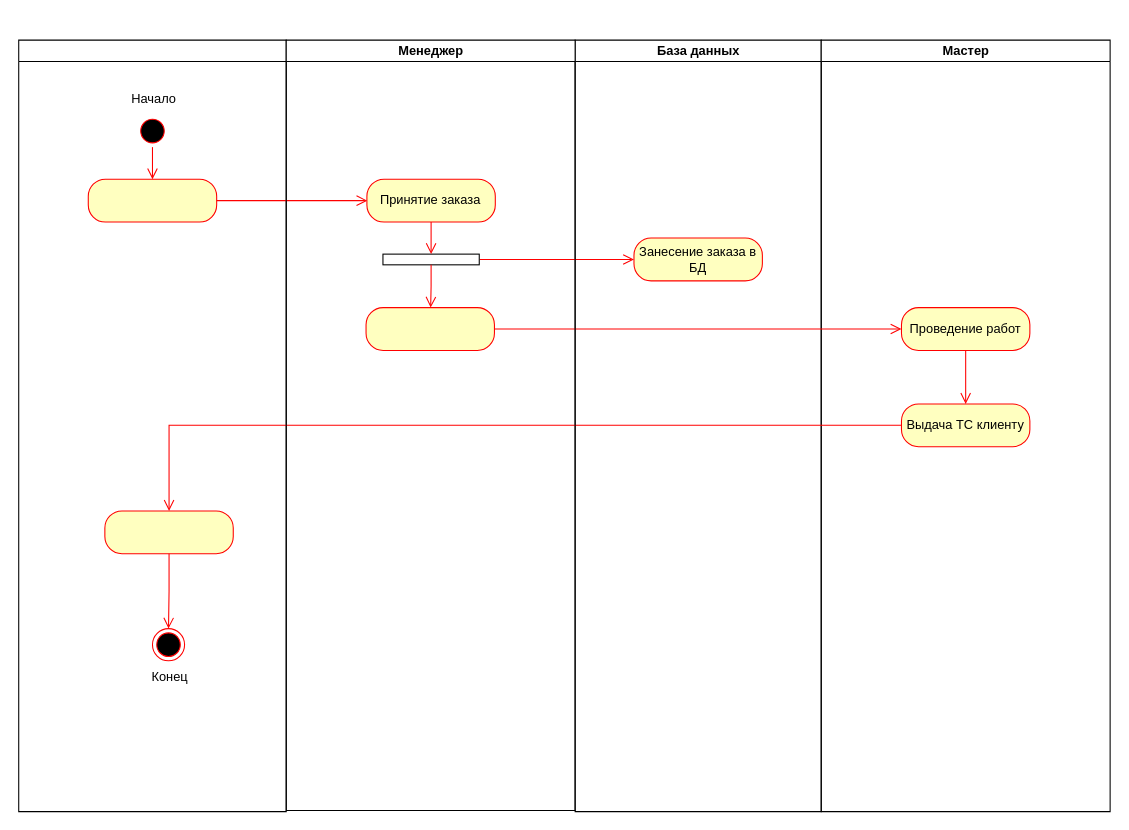
The diagram is 1129 pixels wide and 830 high, and some of its shapes have lost their labels. Each missing label, with the box of its shape:
Клиент: (18, 39, 286, 812)
Оформление заказа: (87, 178, 217, 222)
Передача информации о заказе мастеру: (365, 307, 494, 350)
Получение ТС: (104, 510, 233, 554)
